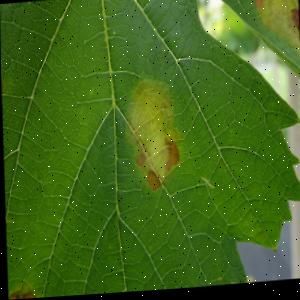Folha: (0, 0, 300, 300)
Fungo: (117, 75, 181, 194), (243, 0, 299, 61), (160, 136, 178, 172), (6, 287, 34, 300), (288, 10, 299, 33), (251, 0, 269, 14), (199, 177, 212, 191), (17, 289, 33, 299), (6, 289, 18, 300)
